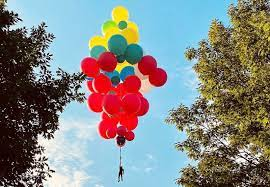Balloon: (121, 93, 142, 115), (102, 93, 121, 114), (98, 52, 116, 72), (85, 92, 103, 112), (149, 68, 167, 87), (108, 35, 127, 53), (139, 56, 157, 74), (81, 58, 99, 76), (126, 44, 143, 63), (124, 76, 142, 93), (112, 7, 129, 22), (102, 21, 118, 35), (106, 127, 116, 140), (118, 125, 126, 136), (125, 132, 134, 140), (118, 21, 126, 29)
